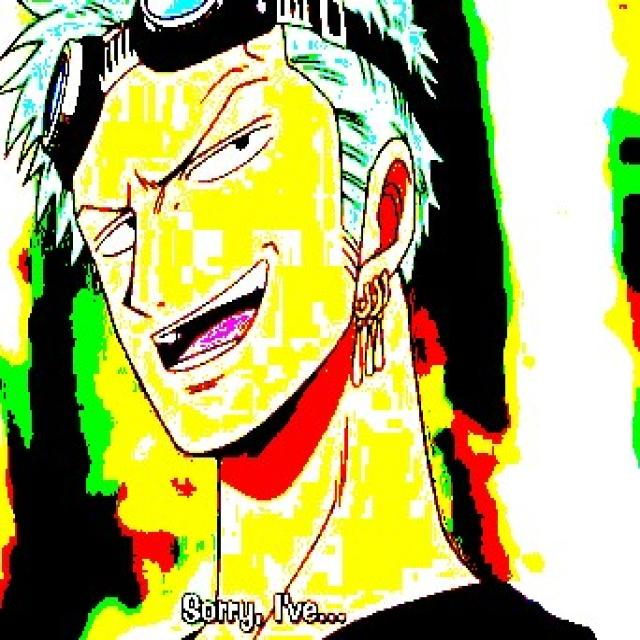Zoro: (0, 0, 597, 640)
